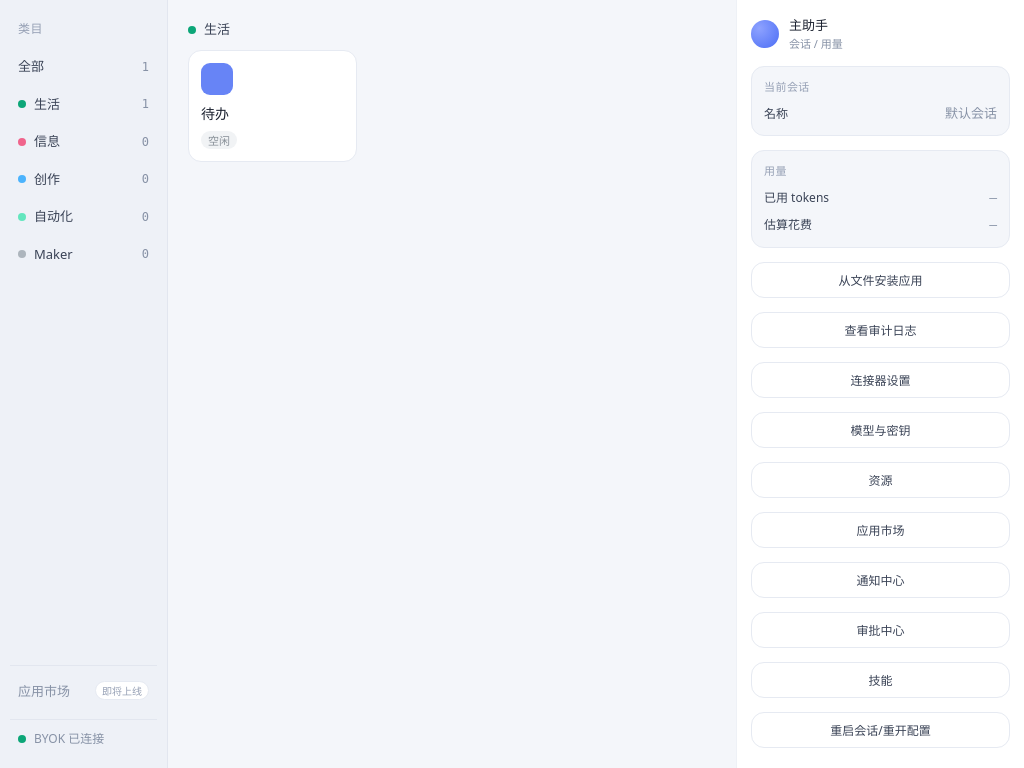
Test case: 点击「审批中心」入口切到 ApprovalCenter
Expected: the text "待办" is shown, top-left (201, 102), bottom-right (229, 122)
Click the button "审批中心" at (880, 630), box top-left (751, 612), bottom-right (1010, 648)
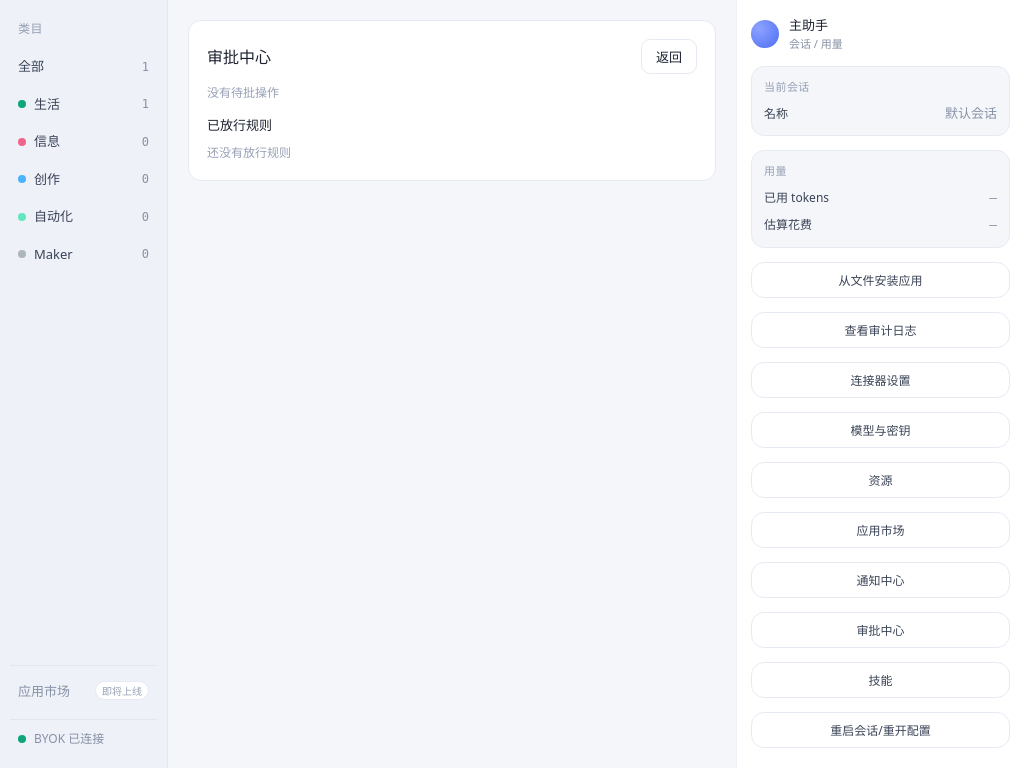
Result: the text "没有待批操作" is shown at top-left (207, 84), bottom-right (279, 101)
